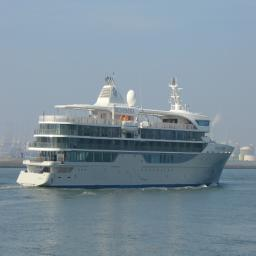cruises: (16, 75, 237, 194)
